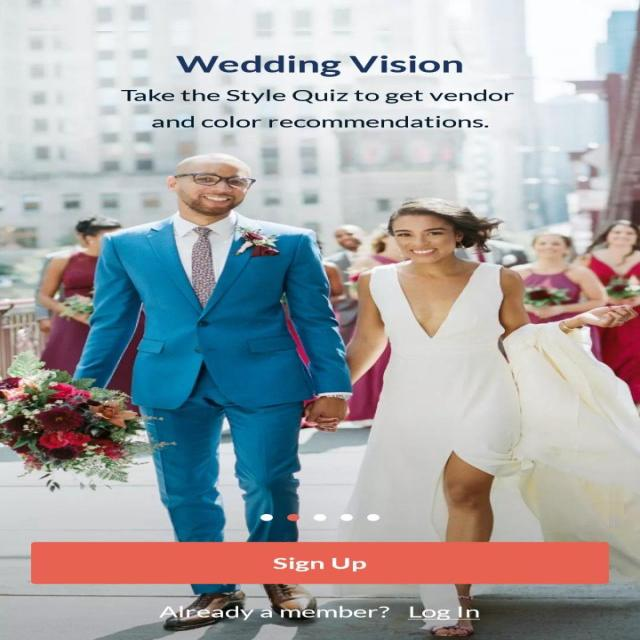BackgroundImage: (0, 0, 639, 639)
Text: (120, 89, 514, 128), (175, 55, 462, 77), (158, 605, 390, 619), (407, 605, 480, 620)
TextButton: (30, 542, 608, 584)
